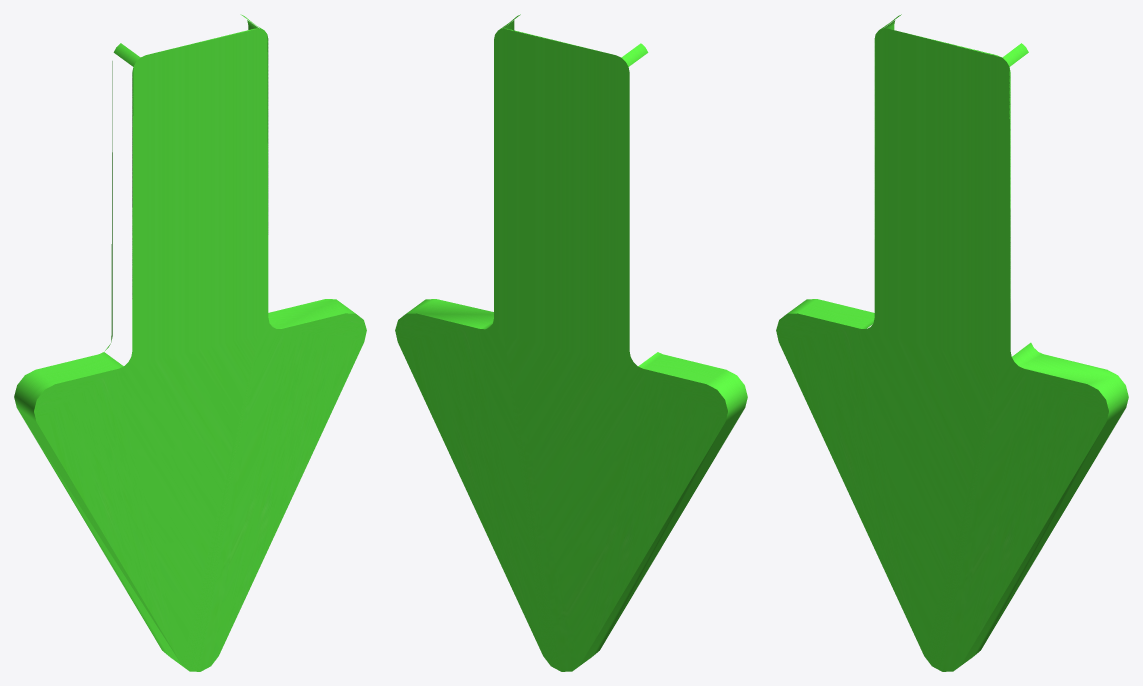
File: arrow-green.glb
3 views of the same model, side by side, from view 1: azimuth 30°, elevation 25°; view 2: azimuth 150°, elevation 25°; view 3: azimuth 330°, elevation 25° (orthographic).
Visible parts, largest first — view 1: pCube1; view 2: pCube1; view 3: pCube1.
Boxes of the visible parts, box(x1,y1,x2,y2) form: pCube1: box(14, 14, 366, 671); pCube1: box(395, 14, 747, 671); pCube1: box(776, 14, 1128, 671).
Size of the model in its own units: 0.0975 by 0.1763 by 0.01.
1 material, 1 textured.
